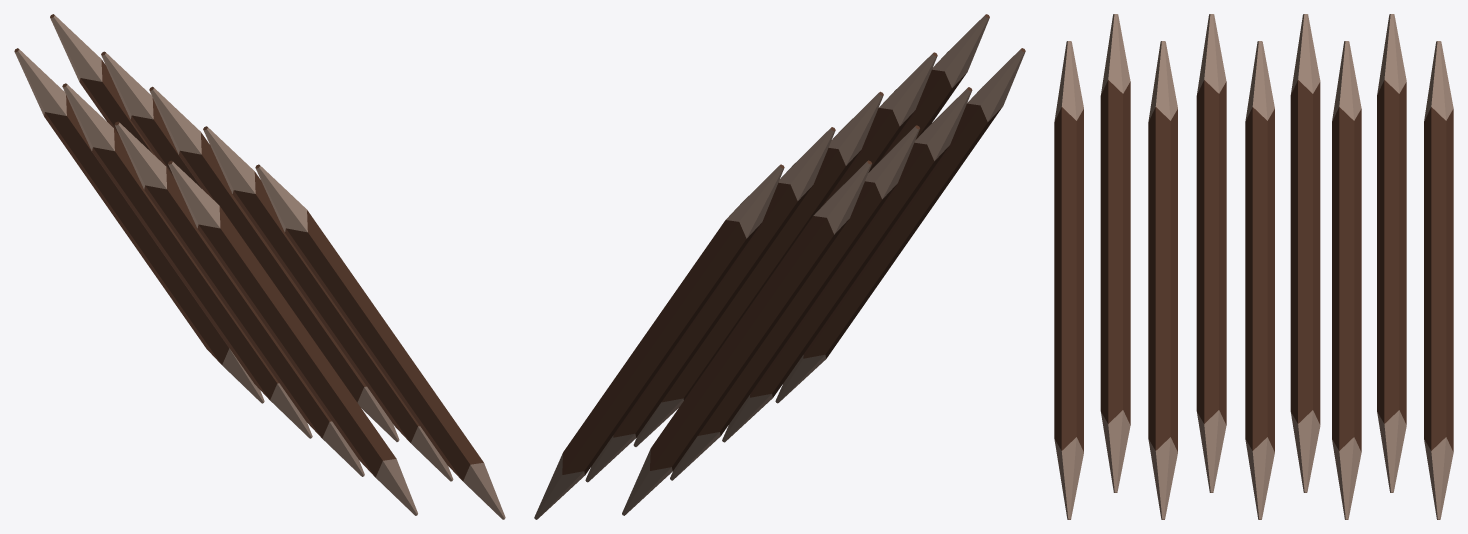
File: spike_barrier.fbx
The picture shows the model from 3 angles, left to right: view 1: azimuth 30°, elevation 25°; view 2: azimuth 150°, elevation 25°; view 3: azimuth 270°, elevation 25°; orthographic projection. The views are drawn at different scales.
Visible parts, largest first — view 1: Cylinder.008; view 2: Cylinder.008; view 3: Cylinder.008.
Boxes of the visible parts, bbox=[...] form: Cylinder.008: bbox=[14, 14, 505, 519]; Cylinder.008: bbox=[534, 14, 1025, 519]; Cylinder.008: bbox=[1054, 14, 1453, 519].
Size of the model in its own units: 42.32 by 53.88 by 52.37.
